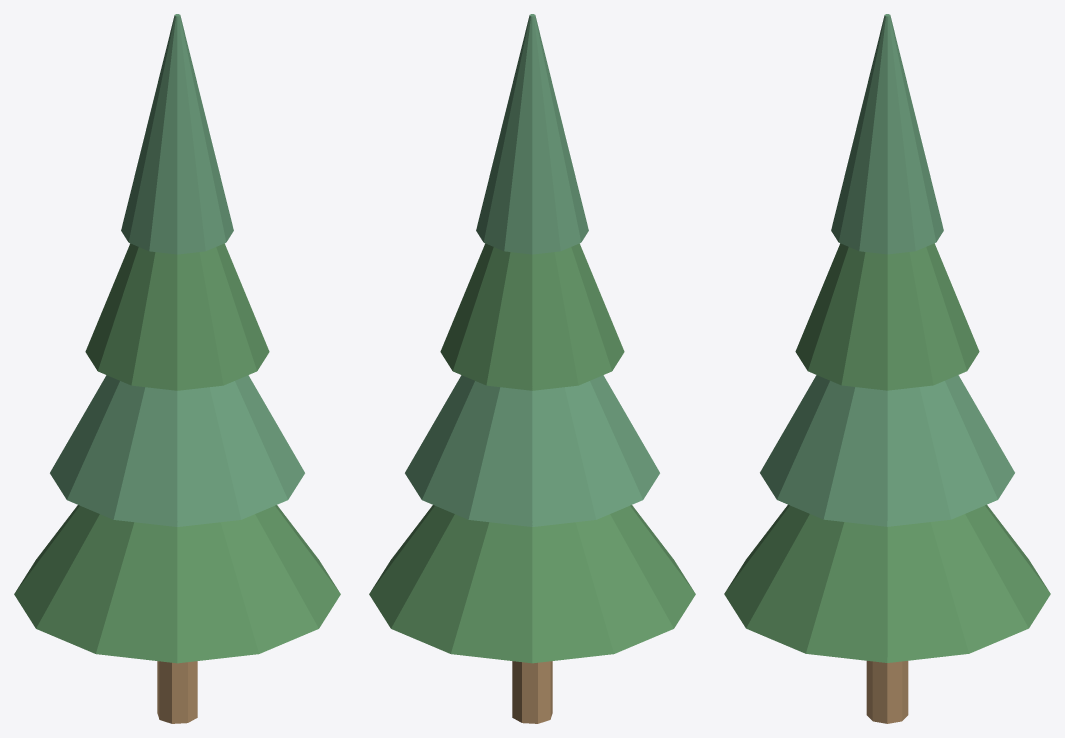
File: HOB_Tree_Pine_L.fbx
3 renders of one model, left to right at view 1: azimuth 30°, elevation 25°; view 2: azimuth 150°, elevation 25°; view 3: azimuth 270°, elevation 25°, orthographic.
Parts seen in each view (by area): view 1: HOB_Tree_Pine_L; view 2: HOB_Tree_Pine_L; view 3: HOB_Tree_Pine_L.
Part boxes in pixels (x1,y1,x2,y2): HOB_Tree_Pine_L: [14, 14, 340, 723]; HOB_Tree_Pine_L: [369, 14, 695, 723]; HOB_Tree_Pine_L: [724, 14, 1050, 723].
Bounding box in the file's own units: 220 × 520 × 220.
